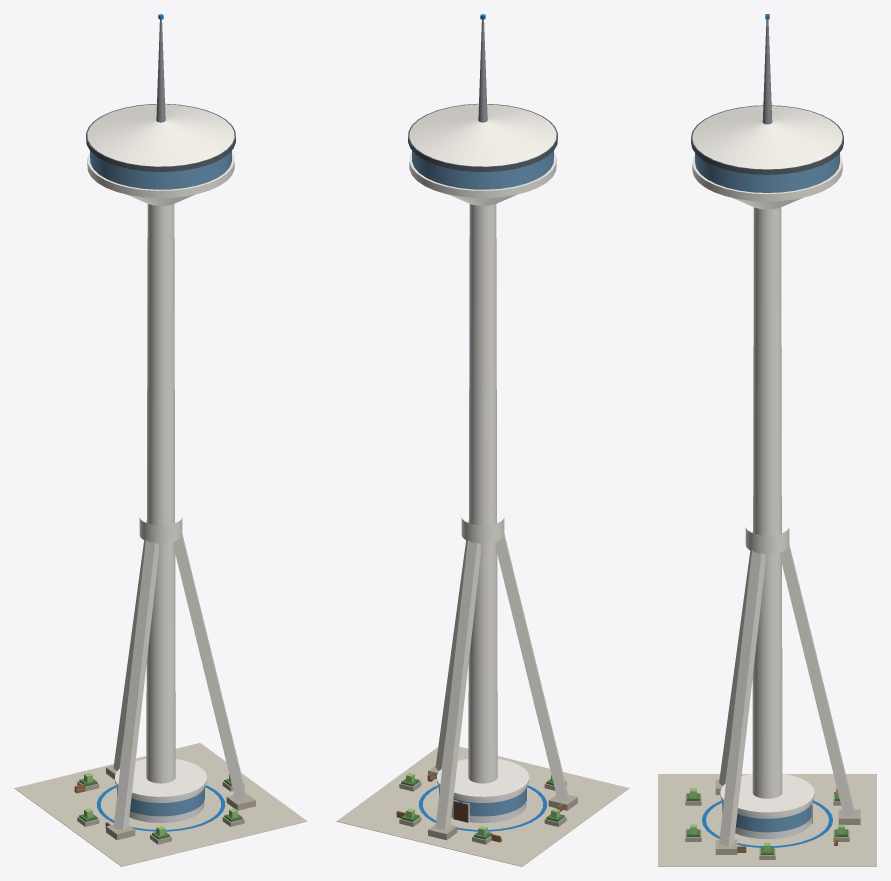
Rendered from skyneedle.glb.
The picture shows the model from 3 angles, left to right: view 1: azimuth 30°, elevation 25°; view 2: azimuth 150°, elevation 25°; view 3: azimuth 270°, elevation 25°; orthographic projection. The views are drawn at different scales.
Parts seen in each view (by area): view 1: core, plaza, leg (×3), deck_cap, deck_glass, lobby_roof, deck_floor, deck_roof, lobby_glass, collar, lobby, spire; view 2: core, plaza, leg (×3), deck_cap, deck_glass, lobby_roof, deck_floor, deck_roof, lobby_glass, collar, lobby, spire; view 3: core, plaza, leg (×3), deck_cap, deck_glass, lobby_roof, deck_floor, deck_roof, lobby_glass, collar, lobby, spire (+1 smaller).
Part boxes in pixels (x1,y1,x2,y2): core: [146, 204, 175, 783]; plaza: [14, 743, 307, 866]; leg (×3): [113, 520, 246, 830]; deck_cap: [87, 104, 234, 166]; deck_glass: [90, 150, 231, 189]; lobby_roof: [115, 759, 206, 799]; deck_floor: [87, 152, 234, 197]; deck_roof: [86, 103, 235, 171]; lobby_glass: [117, 786, 204, 816]; collar: [139, 517, 182, 543]; lobby: [117, 787, 204, 822]; spire: [156, 19, 165, 122]; core: [468, 204, 497, 783]; plaza: [336, 746, 629, 866]; leg (×3): [435, 520, 568, 830]; deck_cap: [409, 104, 556, 166]; deck_glass: [412, 150, 553, 189]; lobby_roof: [437, 759, 528, 799]; deck_floor: [409, 152, 556, 197]; deck_roof: [408, 103, 557, 171]; lobby_glass: [439, 786, 526, 816]; collar: [461, 517, 504, 543]; lobby: [439, 787, 526, 822]; spire: [478, 19, 487, 122]; core: [752, 207, 782, 798]; plaza: [658, 774, 876, 866]; leg (×3): [719, 532, 854, 846]; deck_cap: [692, 106, 842, 169]; deck_glass: [695, 153, 839, 192]; lobby_roof: [720, 773, 814, 815]; deck_floor: [692, 155, 842, 201]; deck_roof: [691, 105, 843, 174]; lobby_glass: [722, 801, 812, 832]; collar: [745, 527, 789, 553]; lobby: [723, 802, 811, 838]; spire: [762, 19, 772, 124].
Bounding box in the file's own units: 32 × 130 × 32.
